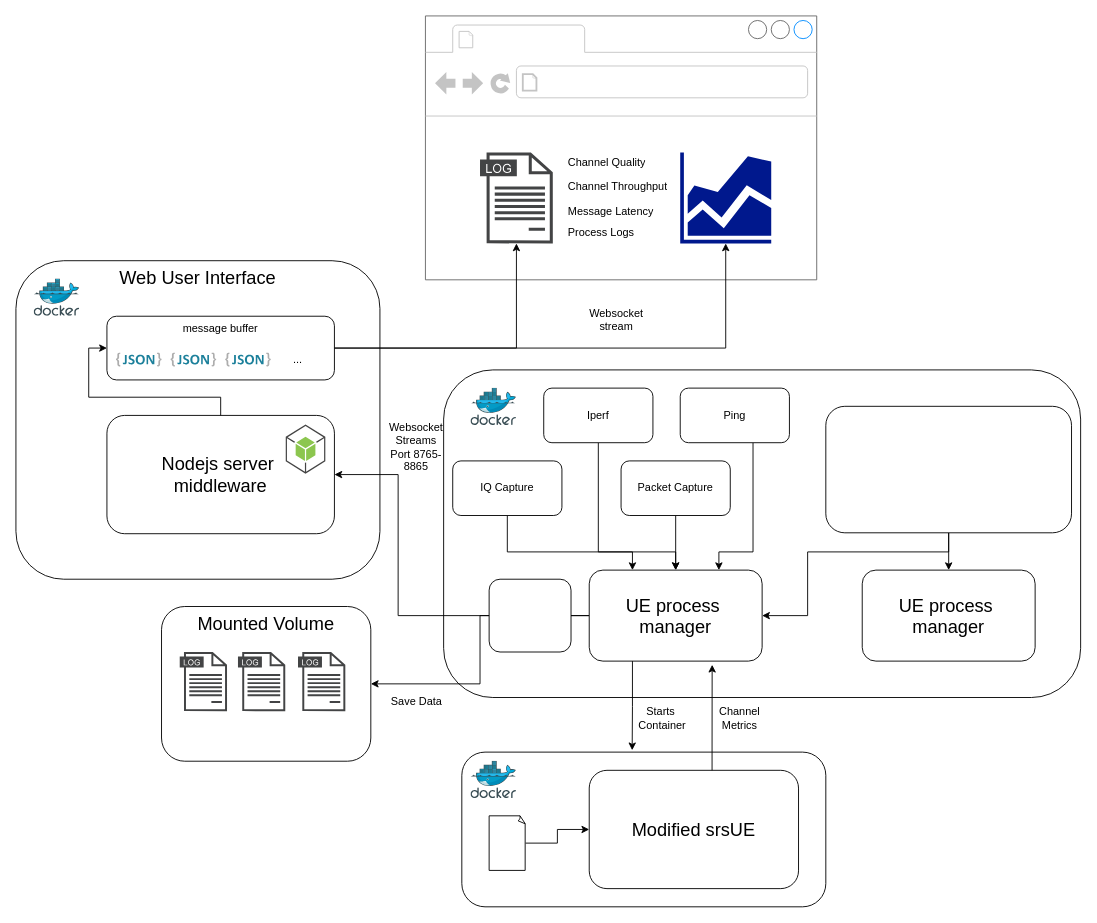
Image size: 1097x923. Some labels were removed from this diagram. The shapes that lost their labels are listed below. From the top down, each one's centre as x and y in pixels, then its label:
At pixel 529 38: "Soft T UE".
At pixel 657 82: "http://localhost:3000".
At pixel 948 469: "Python Process Controller".
At pixel 529 615: "Websocket Process".
At pixel 507 842: ".conf".
